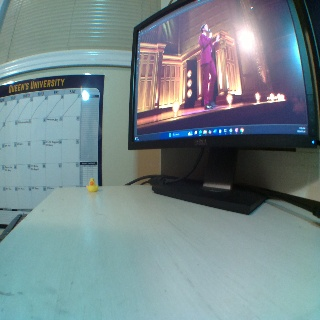duck_regular: (86, 177, 97, 193)
